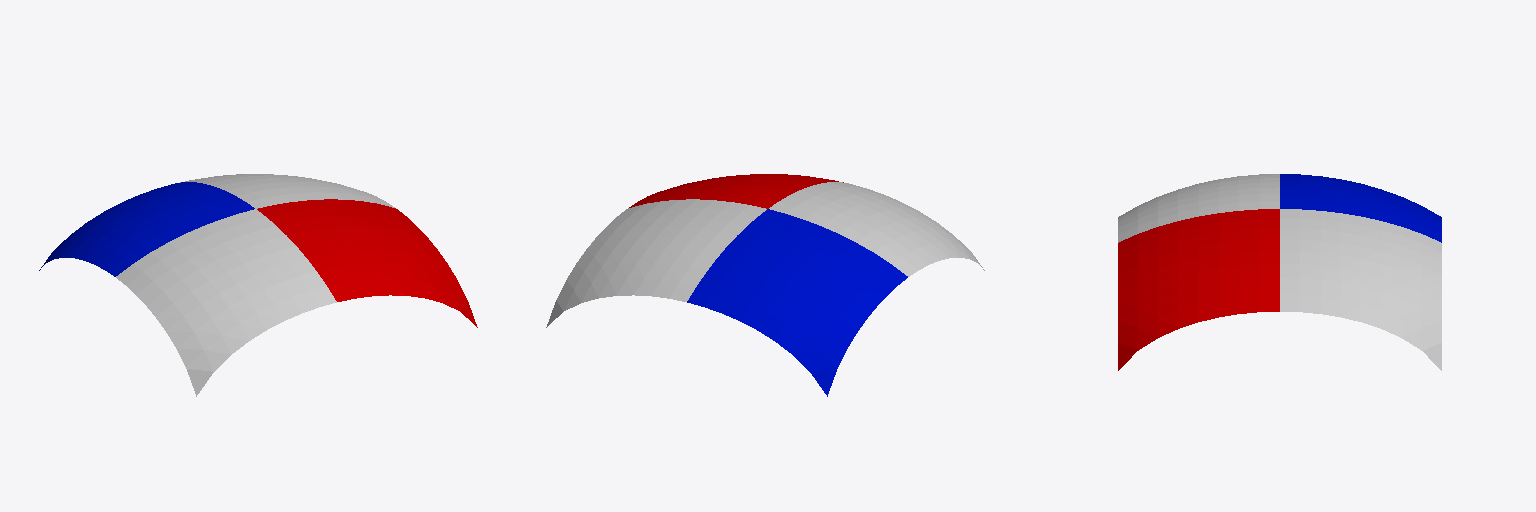
Rendered from CurvedSurface.obj.
3 views of the same model, side by side, from view 1: azimuth 30°, elevation 25°; view 2: azimuth 150°, elevation 25°; view 3: azimuth 270°, elevation 25° (orthographic).
Visible parts, largest first — view 1: Plane; view 2: Plane; view 3: Plane.
Part boxes in pixels (bbox=[...]): Plane: bbox=[39, 174, 477, 396]; Plane: bbox=[546, 174, 984, 396]; Plane: bbox=[1118, 174, 1441, 370].
Size of the model in its own units: 2 by 0.6392 by 2.